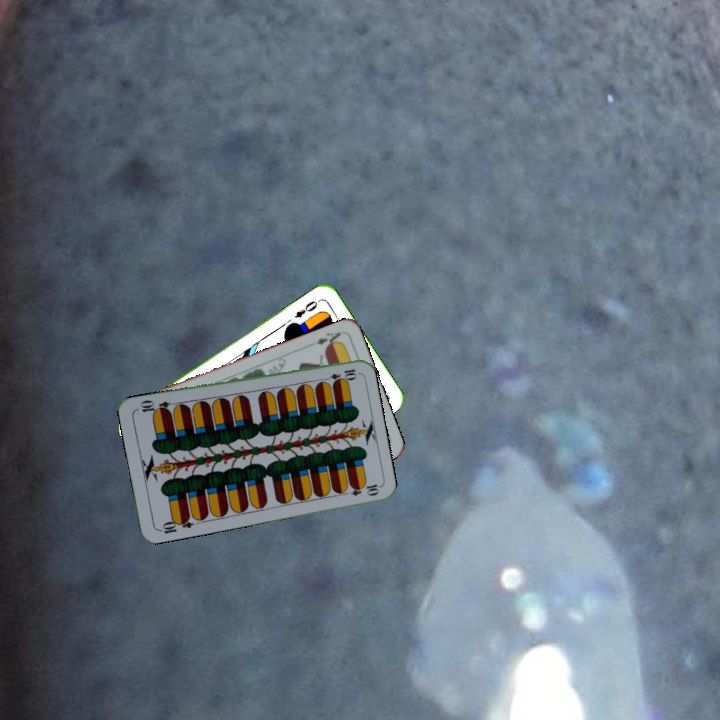E10: (155, 512, 195, 536), (319, 365, 359, 384)
EA: (306, 328, 345, 350)
EO: (290, 295, 323, 321)
